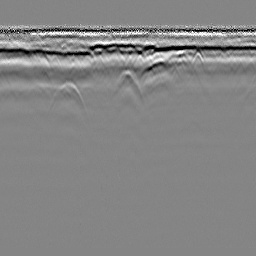cavity: (111, 67, 145, 105)
